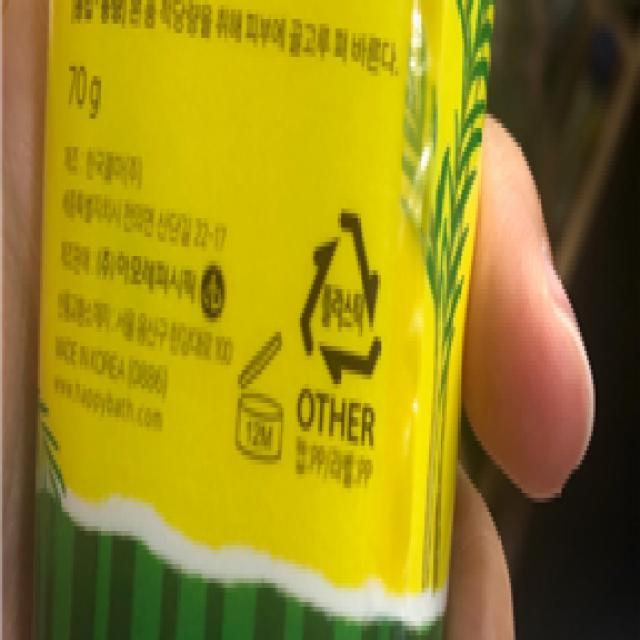Plastic: (298, 198, 386, 387)
